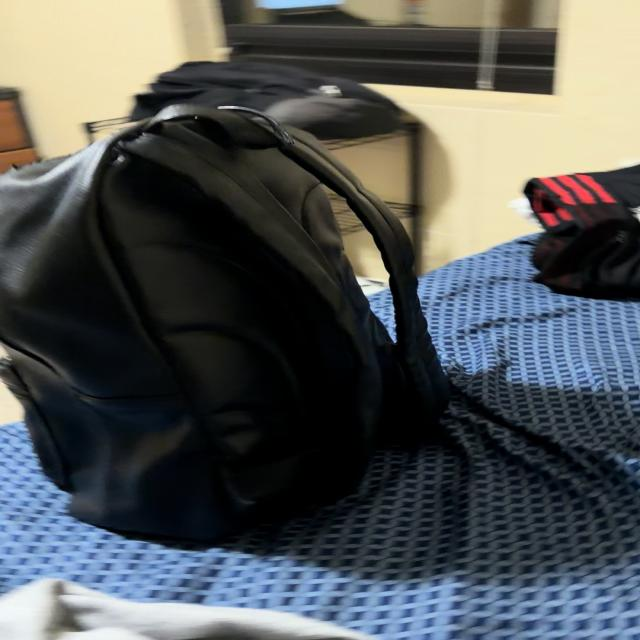backpack: (0, 105, 448, 539)
